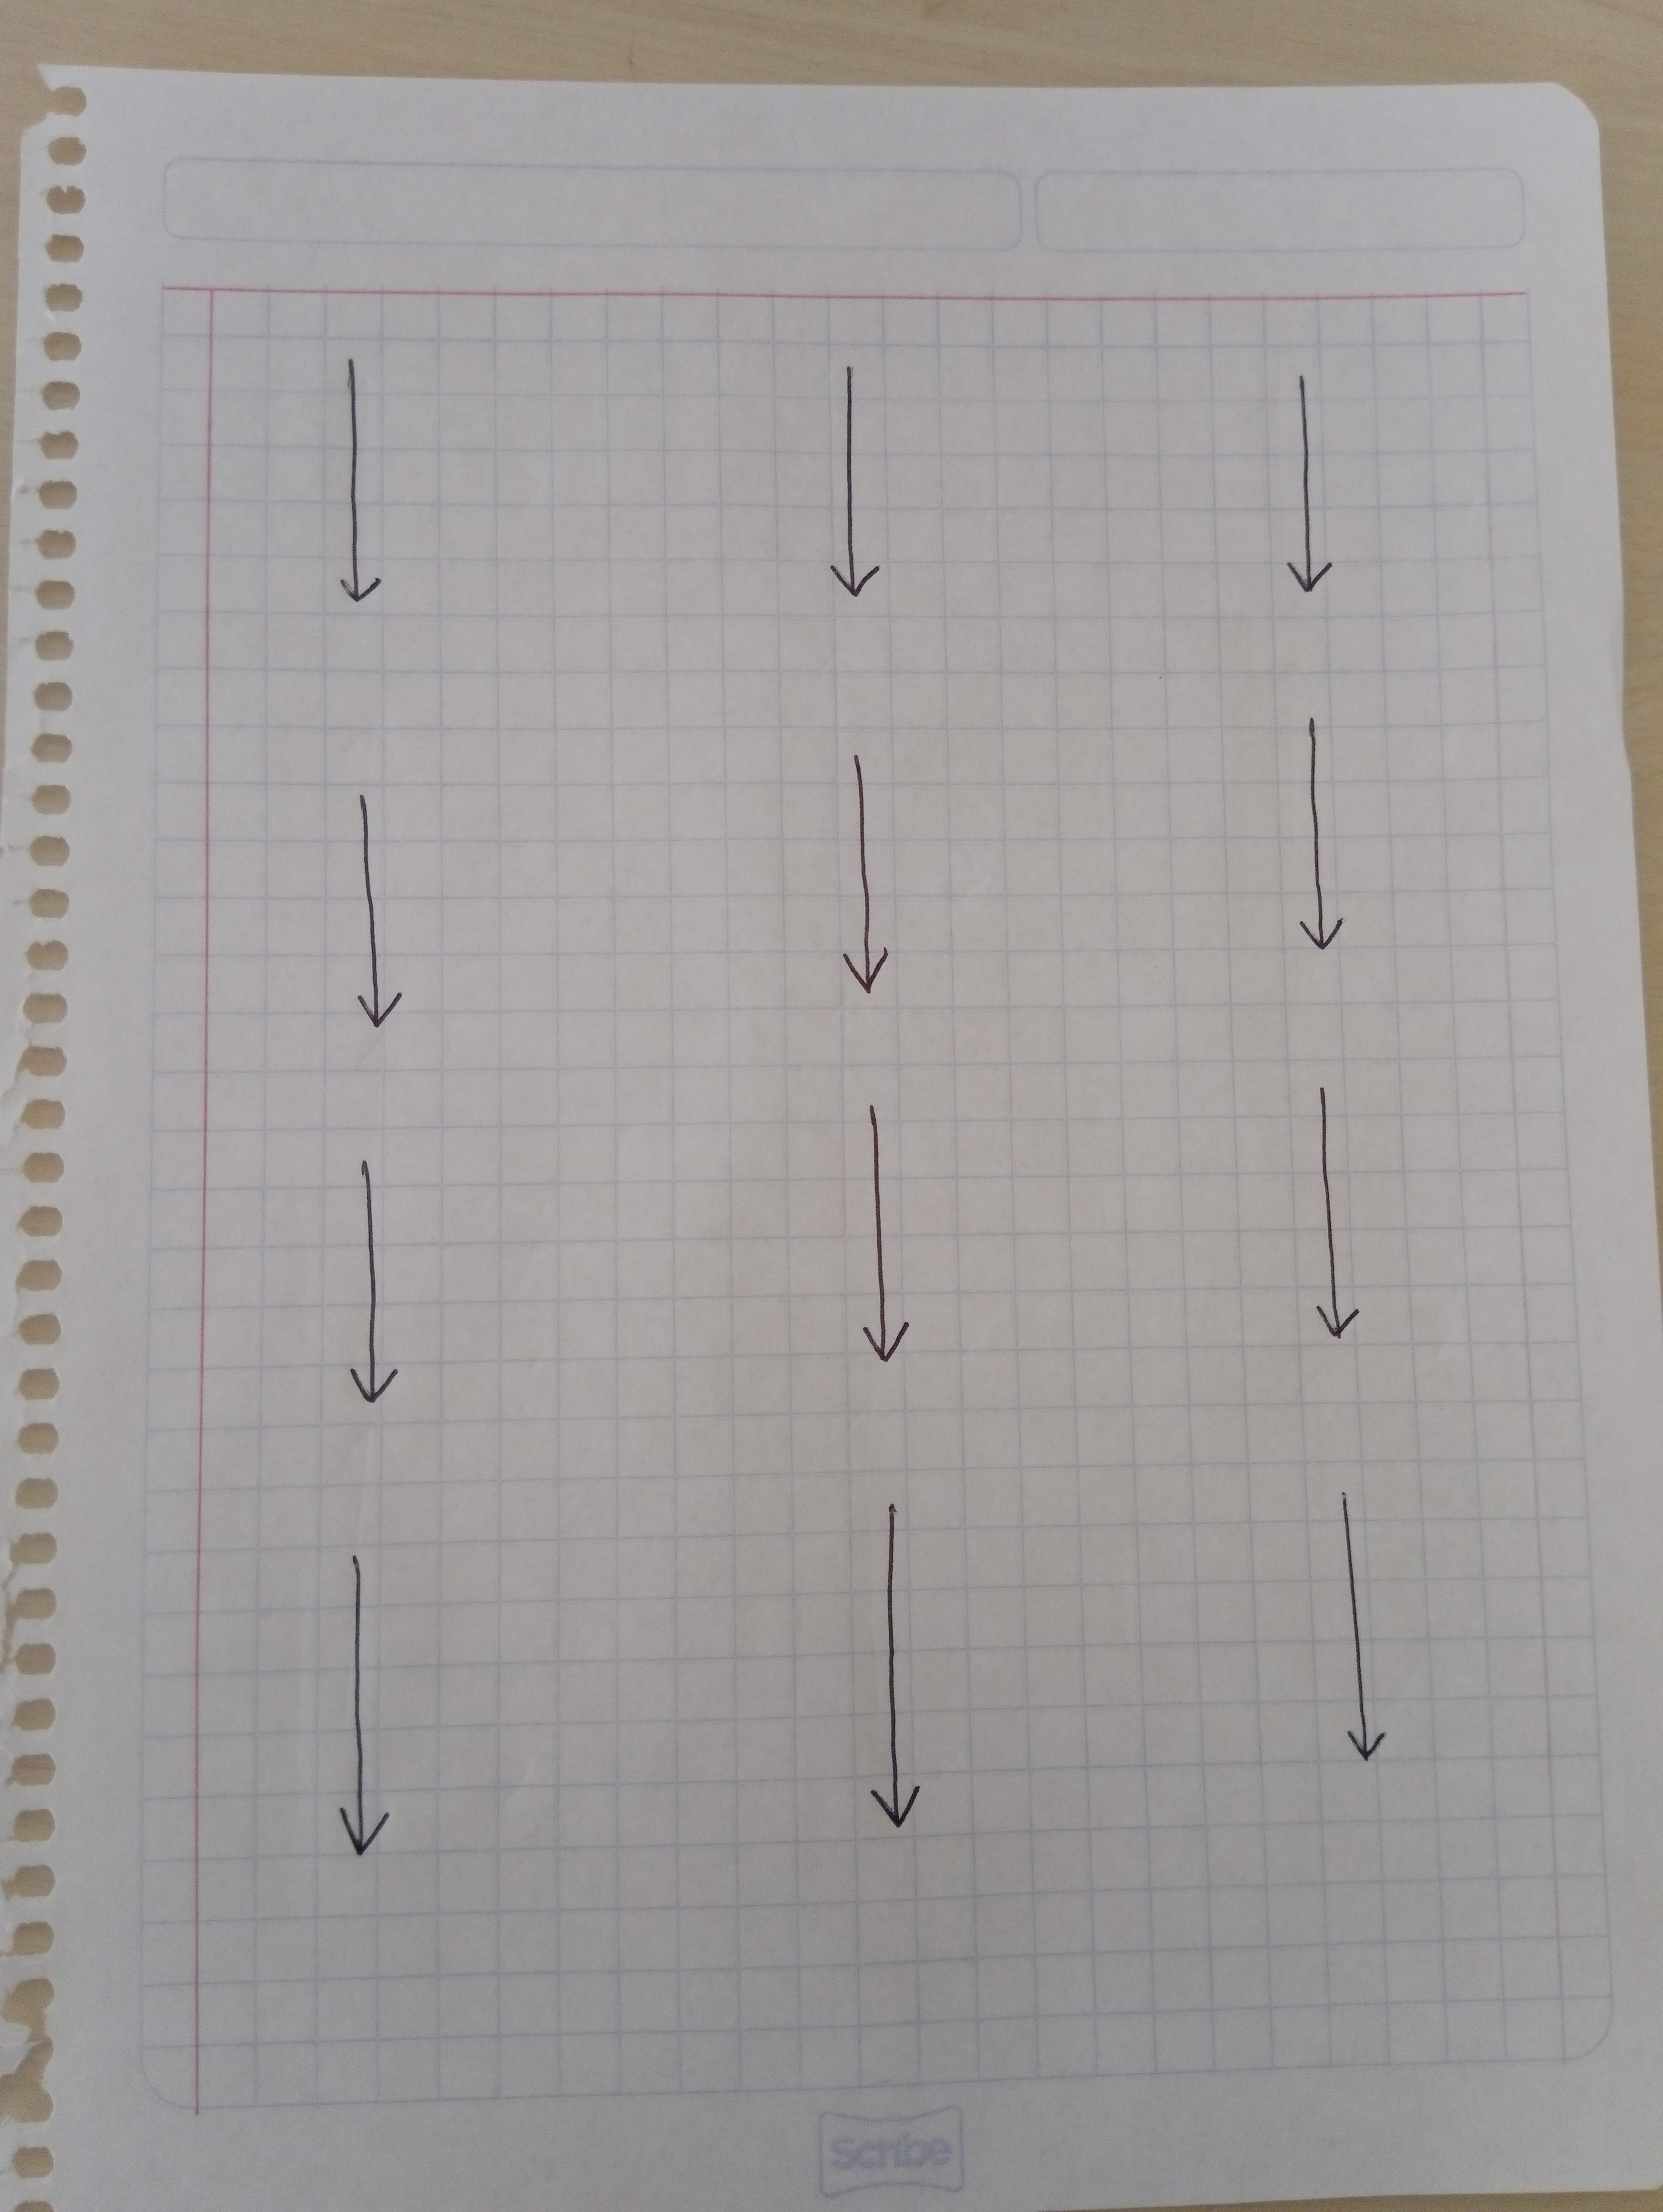arrow_line_down: (1317, 1491, 1431, 1791), (800, 361, 933, 618), (1266, 1065, 1387, 1344), (844, 1487, 936, 1838), (323, 1549, 419, 1872), (830, 1102, 933, 1370), (313, 1142, 407, 1398), (814, 751, 907, 999), (1254, 384, 1357, 601), (342, 784, 423, 1051), (1280, 712, 1361, 958), (320, 339, 390, 615)
